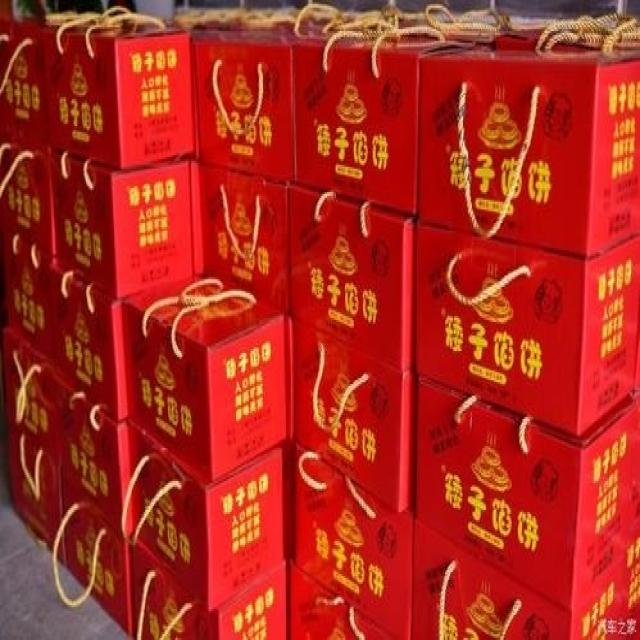box: (415, 373, 637, 609), (416, 221, 639, 437), (419, 48, 639, 257), (123, 275, 285, 482), (127, 417, 284, 613), (412, 518, 627, 638), (295, 38, 432, 213), (293, 316, 415, 512), (289, 182, 414, 373), (295, 442, 414, 638), (51, 151, 204, 299), (42, 24, 197, 170), (192, 32, 302, 181), (130, 534, 286, 638), (199, 162, 291, 314), (52, 262, 129, 423), (59, 375, 133, 539), (63, 467, 130, 638), (2, 325, 62, 466), (290, 559, 391, 638), (3, 229, 59, 371), (9, 420, 63, 567), (0, 141, 56, 256)
